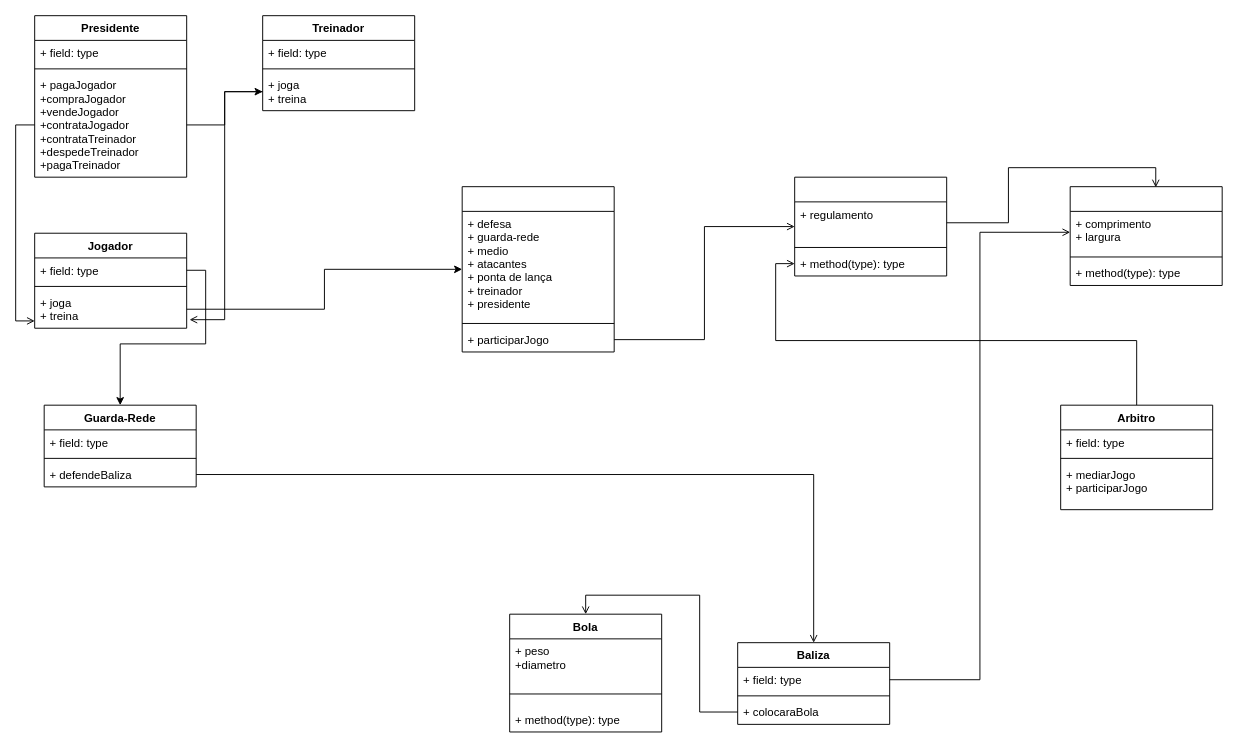
Some shapes in this 1238 by 748 pixel diagram are drawn without their labels. The box of each missing label's shape, as (x1, y1, x2, y2) in pixels:
Campo: (1069, 186, 1222, 285)
Equipe: (461, 186, 614, 352)
Jogo: (794, 176, 947, 276)
